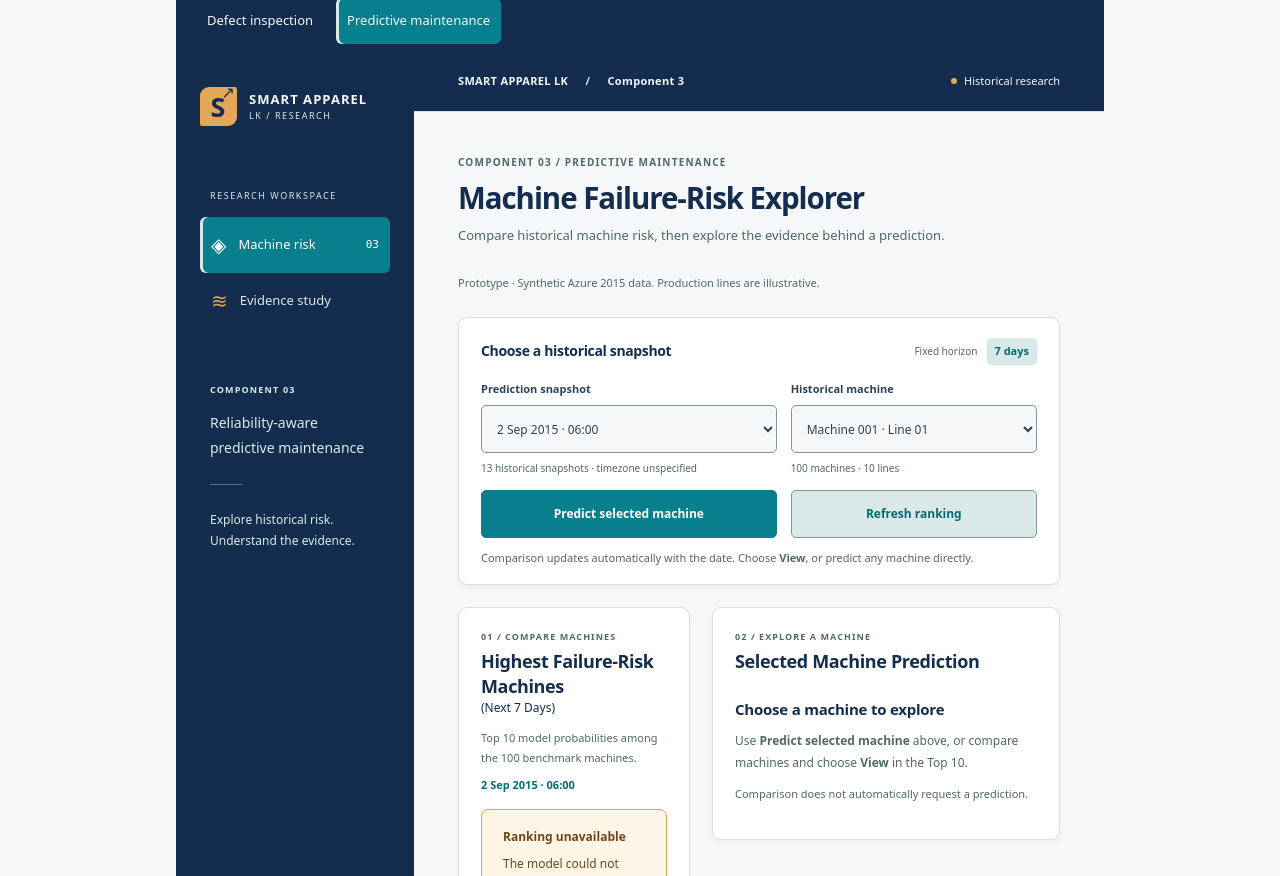
Test case: top-risk machine interaction › handles HTTP 500 and retries without preset results
Check: the message shows "Ranking unavailable", box [503,828,626,845]
Click the button "Refresh ranking": (914,514) [791,490,1037,538]
(page scrolled)
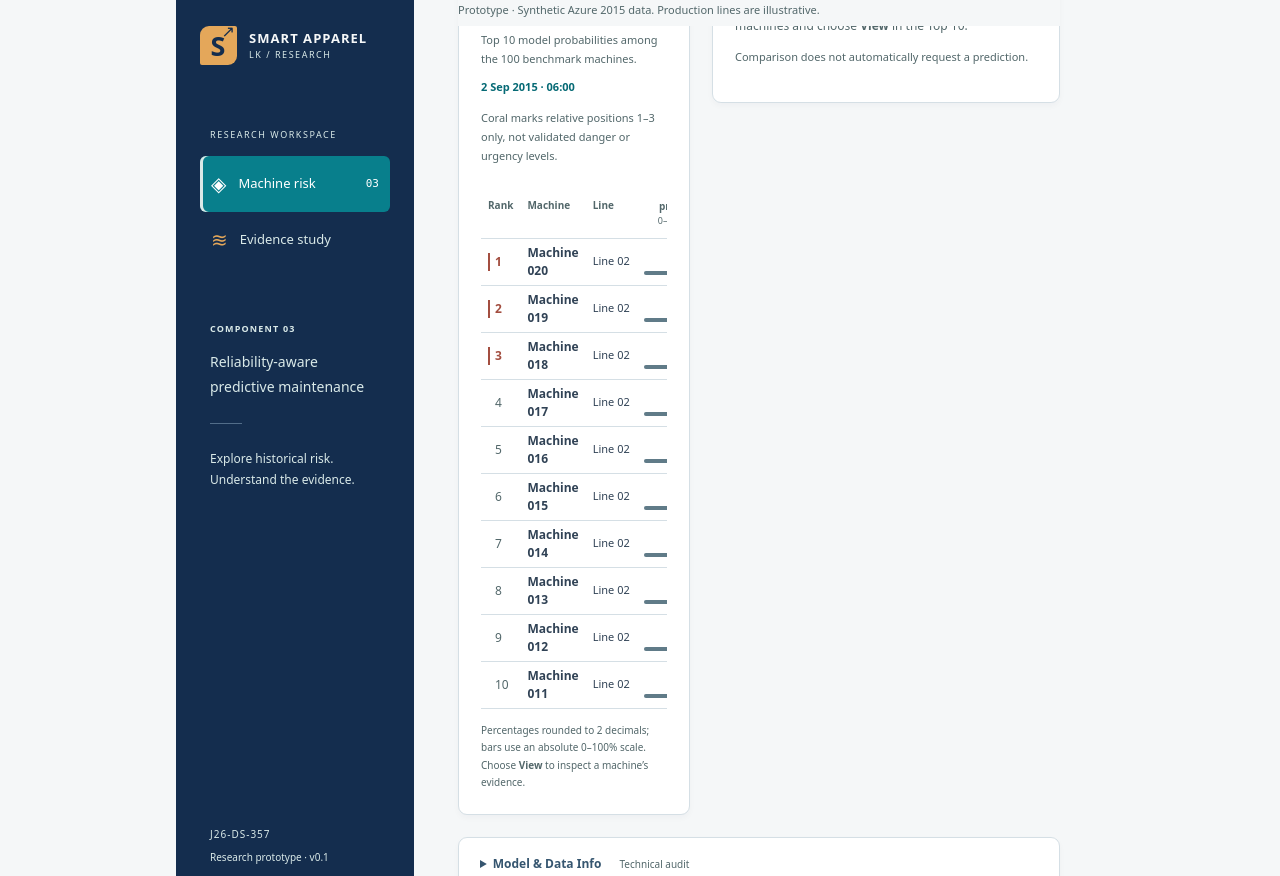
Check: the table is shown, box [481,173,667,709]
